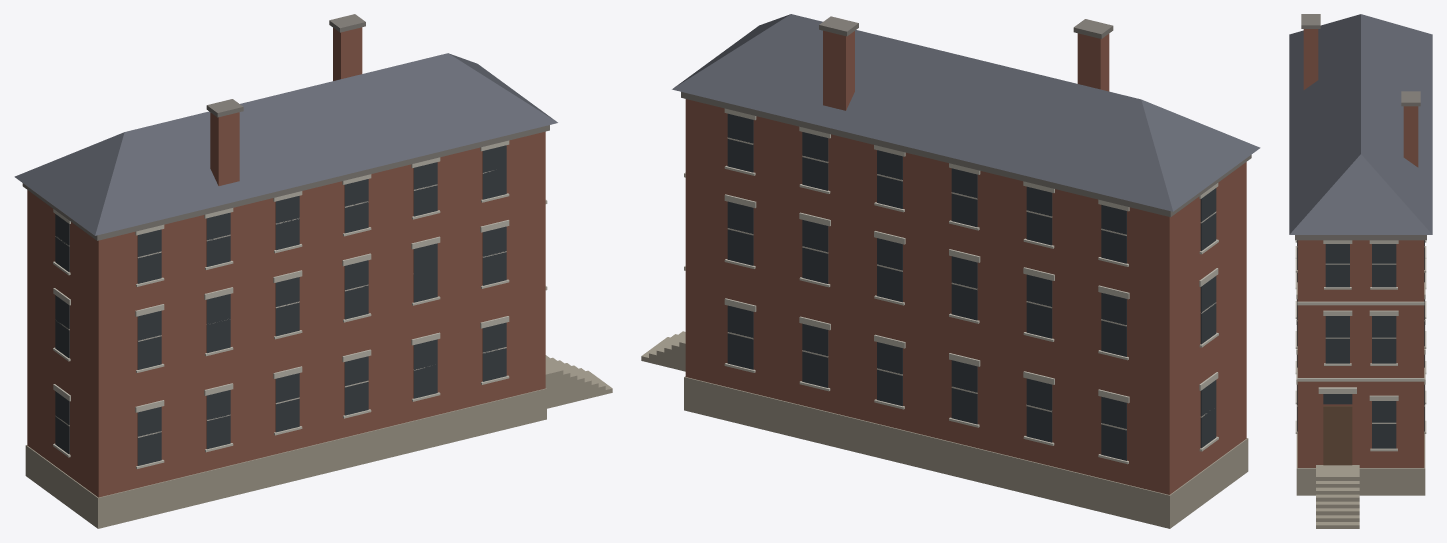
File: house_1621_prairie__draft_1904.glb
3 renders of one model, left to right at view 1: azimuth 30°, elevation 25°; view 2: azimuth 150°, elevation 25°; view 3: azimuth 270°, elevation 25°, orthographic. The views are drawn at different scales.
Parts seen in each view (by area): view 1: house_1621_prairie__draft_1904; view 2: house_1621_prairie__draft_1904; view 3: house_1621_prairie__draft_1904.
Boxes of the visible parts, box(x1,y1,x2,y2) form: house_1621_prairie__draft_1904: box(14, 14, 612, 528); house_1621_prairie__draft_1904: box(641, 14, 1260, 528); house_1621_prairie__draft_1904: box(1289, 14, 1432, 528).
Size of the model in its own units: 22.65 by 15.6 by 5.95.
